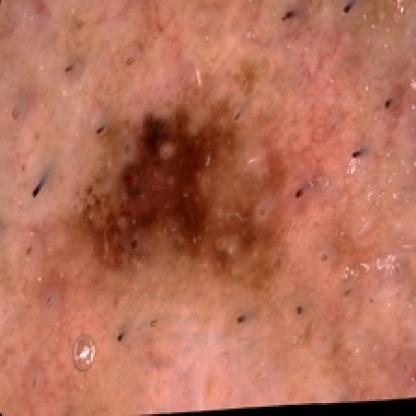Skin_Cancer-Malignant: (81, 76, 291, 287)
